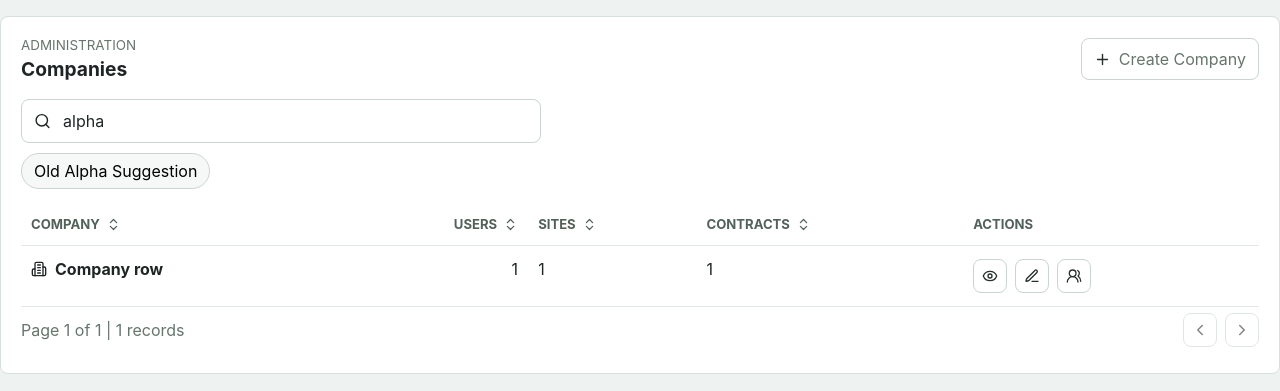
Test: Admin panels request ownership › does not recycle company suggestions when a query executes again
Expected: the button "Old Alpha Suggestion" is shown, [21,153,210,189]
Replace the text in the field with placeholder "Search companies" with "beta". click: (294, 121)
box: [61,110,528,132]
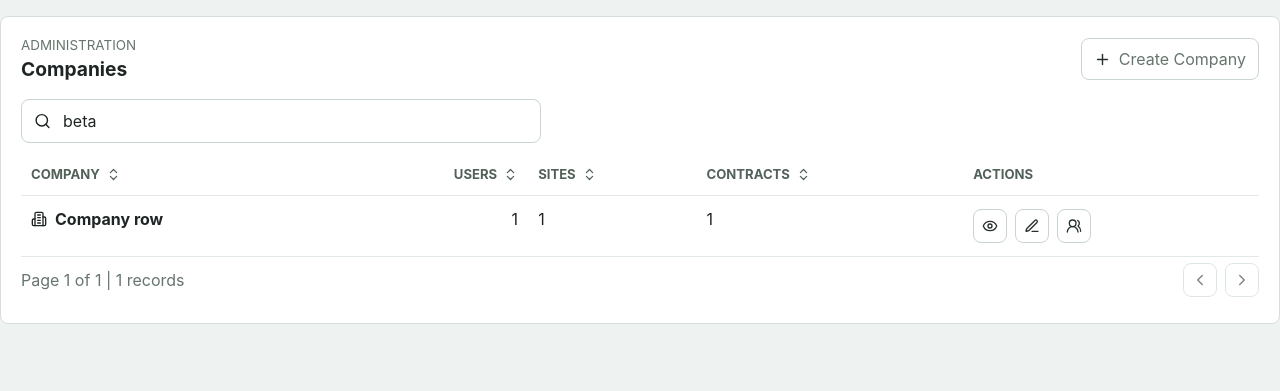
Replace the text in the field with placeholder "Search companies" with "alpha". click: (294, 121)
box: [61,110,528,132]
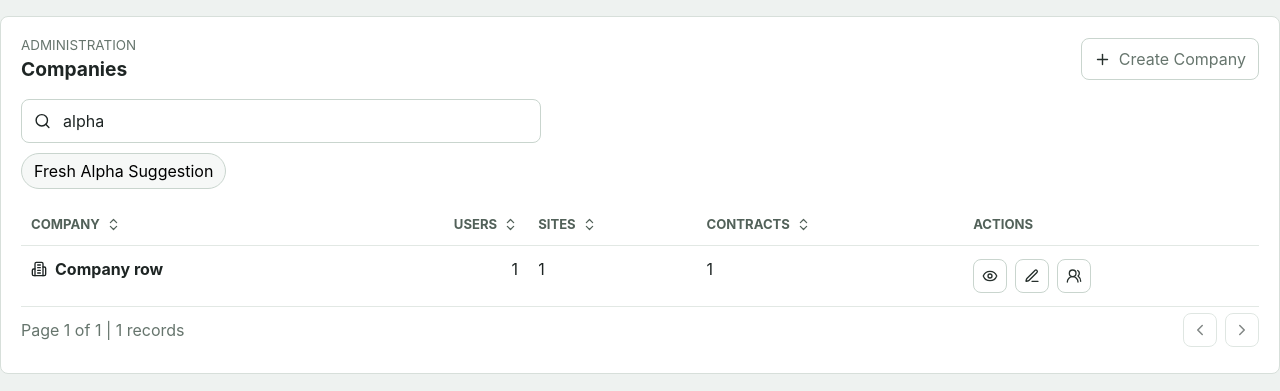
Expected: the button "Old Alpha Suggestion" is not shown
Now the button "Fresh Alpha Suggestion" is shown, box [21,153,226,189]
